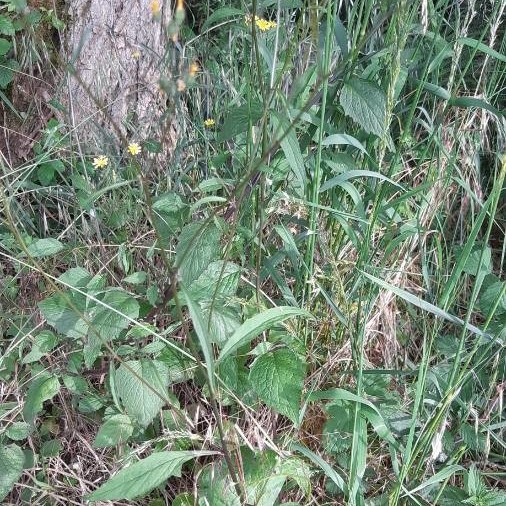obstacle: (101, 63, 468, 466)
